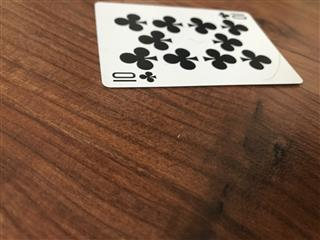TenOfClubs: (93, 1, 303, 88)
